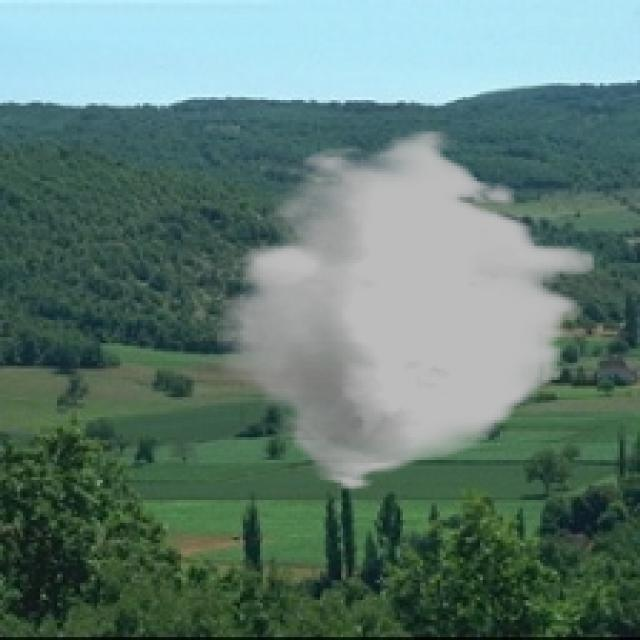Smoke: (217, 128, 594, 492)
